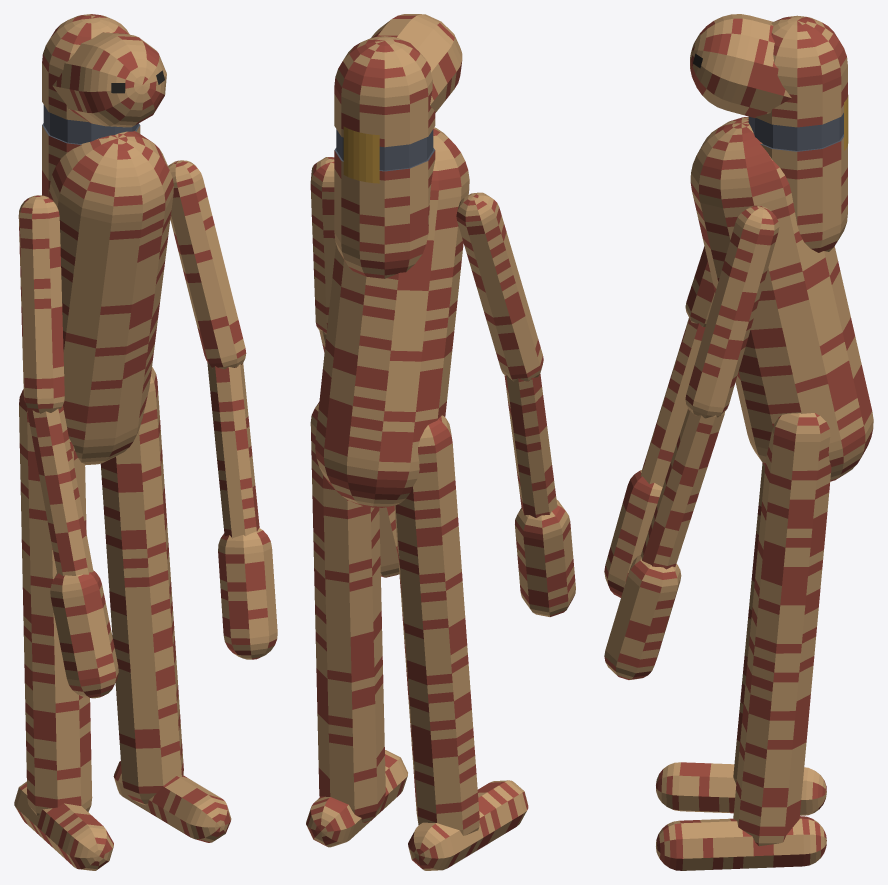
File: titan-scuttler.glb
The picture shows the model from 3 angles, left to right: view 1: azimuth 30°, elevation 25°; view 2: azimuth 150°, elevation 25°; view 3: azimuth 270°, elevation 25°; orthographic projection. The views are drawn at different scales.
Visible parts, largest first — view 1: titan-scuttler; view 2: titan-scuttler; view 3: titan-scuttler.
Part boxes in pixels (left/top/right/bottom): titan-scuttler: left=14, top=14, right=277, bottom=870; titan-scuttler: left=306, top=14, right=575, bottom=870; titan-scuttler: left=604, top=14, right=873, bottom=870.
Bounding box in the file's own units: 2.89 × 10.12 × 3.01.
1 material, 1 textured.
